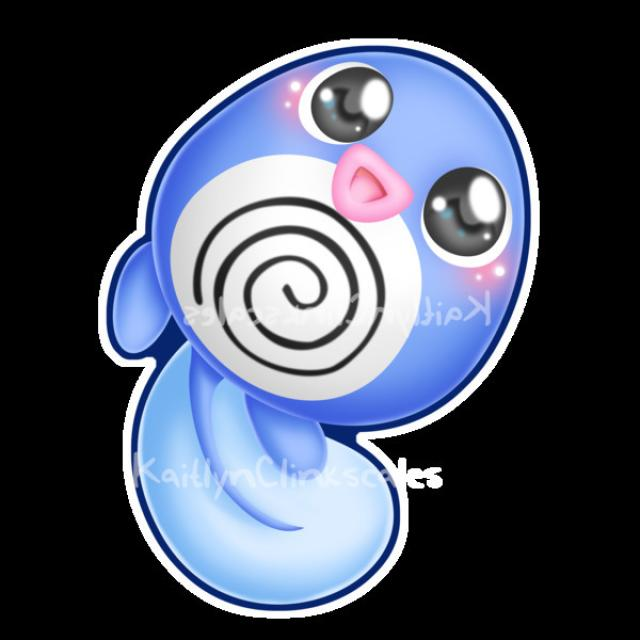Poliwag: (114, 39, 550, 602)
